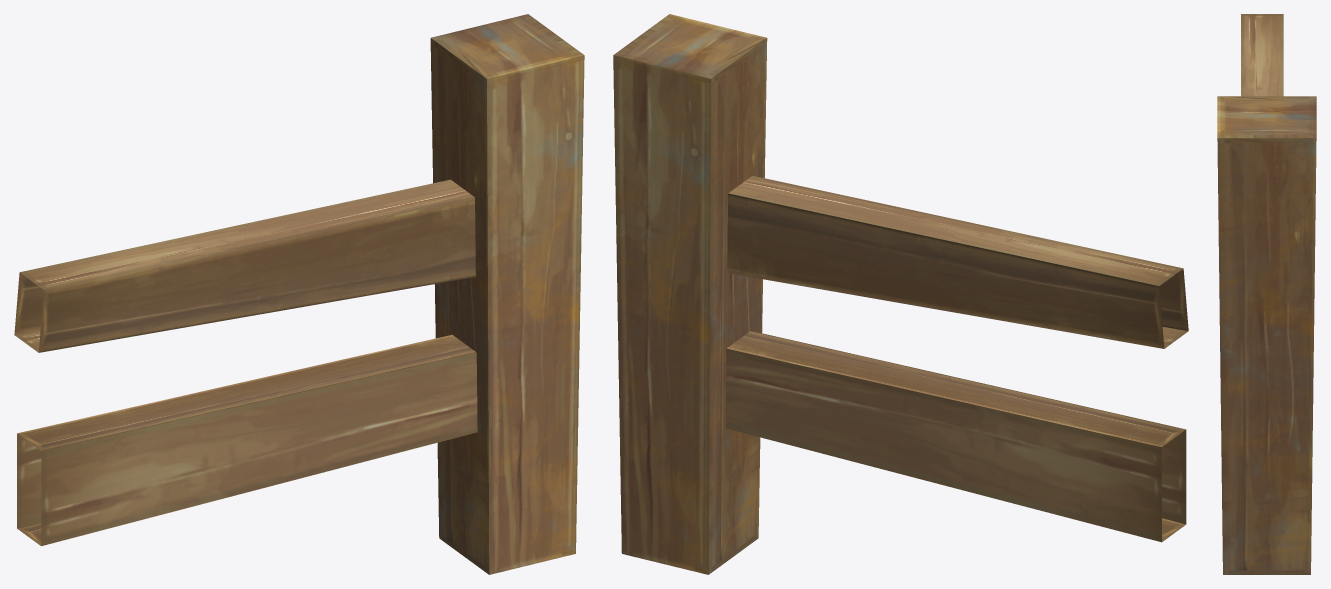
The model's file is fence_extension.FBX.
3 views of the same model, side by side, from view 1: azimuth 30°, elevation 25°; view 2: azimuth 150°, elevation 25°; view 3: azimuth 270°, elevation 25° (orthographic). The views are drawn at different scales.
Visible parts, largest first — view 1: fence_extension; view 2: fence_extension; view 3: fence_extension.
Boxes of the visible parts, x1=… form: fence_extension: x1=14, y1=14, x2=584, y2=574; fence_extension: x1=613, y1=14, x2=1188, y2=574; fence_extension: x1=1217, y1=14, x2=1316, y2=574.
Bounding box in the file's own units: 216 × 194 × 39.66.
2 materials, 2 textured.
